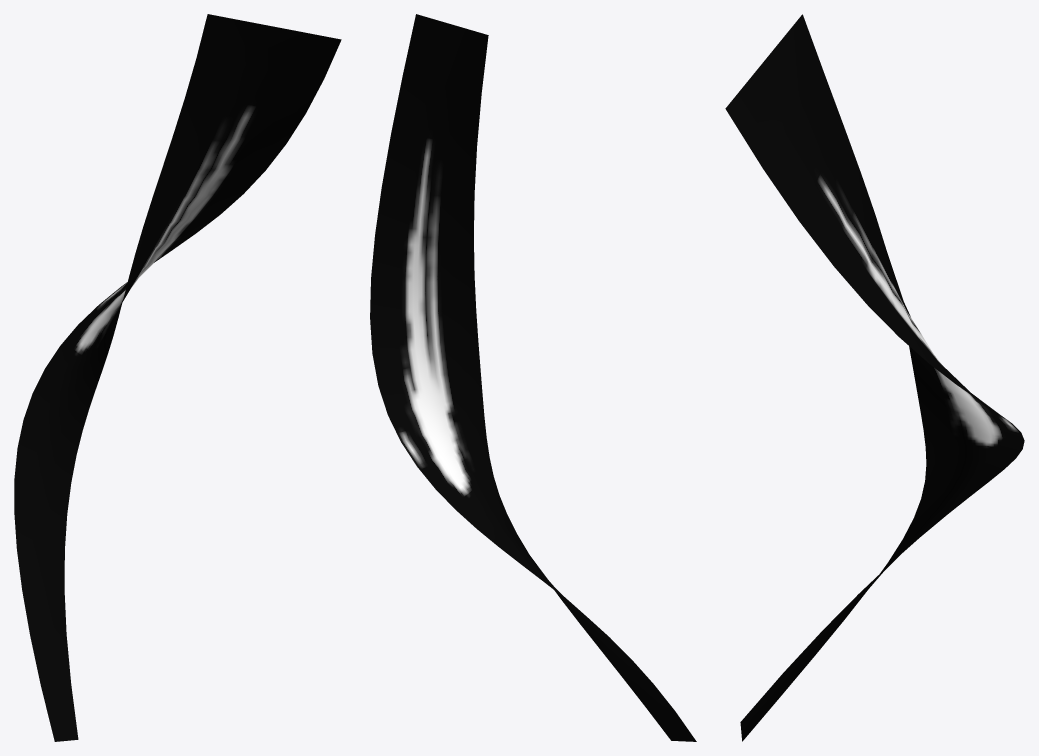
Rendered from p_drillbot_drilltrail03.fbx.
3 renders of one model, left to right at view 1: azimuth 30°, elevation 25°; view 2: azimuth 150°, elevation 25°; view 3: azimuth 270°, elevation 25°, orthographic. The views are drawn at different scales.
Visible parts, largest first — view 1: p_builderguide_trail03; view 2: p_builderguide_trail03; view 3: p_builderguide_trail03.
Part boxes in pixels (x1=…): p_builderguide_trail03: x1=14, y1=14, x2=341, y2=741; p_builderguide_trail03: x1=370, y1=14, x2=696, y2=741; p_builderguide_trail03: x1=725, y1=14, x2=1024, y2=741.
Bounding box in the file's own units: 18.28 × 41.7 × 13.8.
